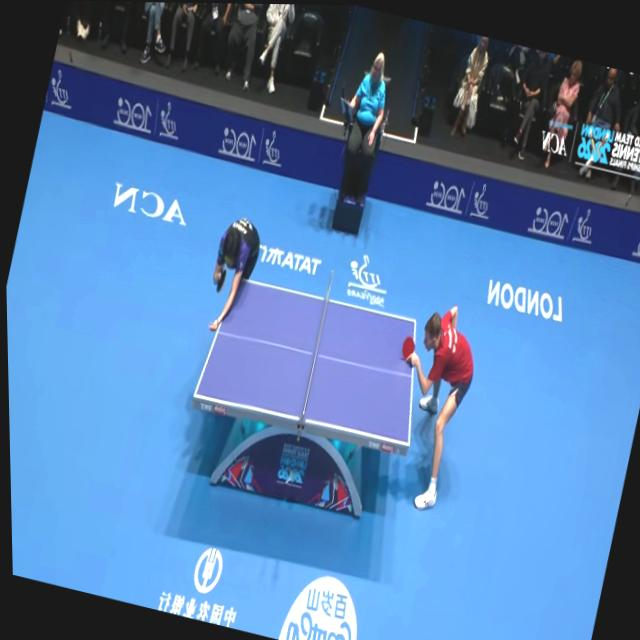TT Net: (297, 267, 334, 428)
TT Racket: (399, 329, 416, 366), (213, 264, 229, 296)
TT Table: (192, 275, 416, 447)
